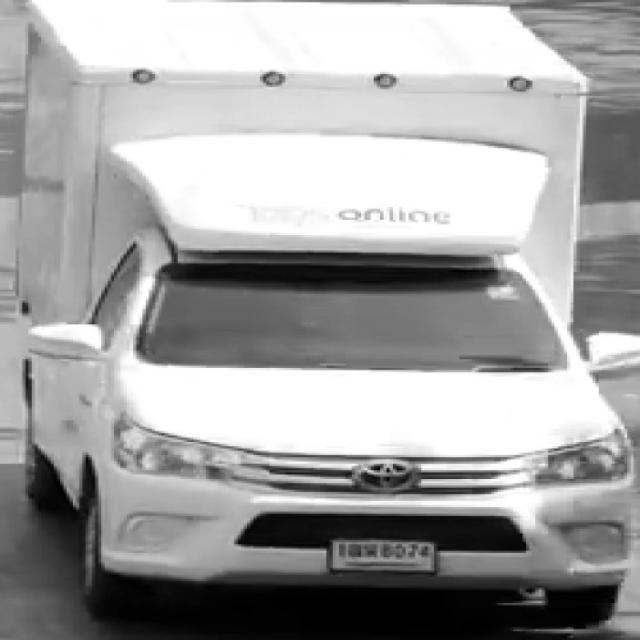plate: (328, 536, 442, 577)
